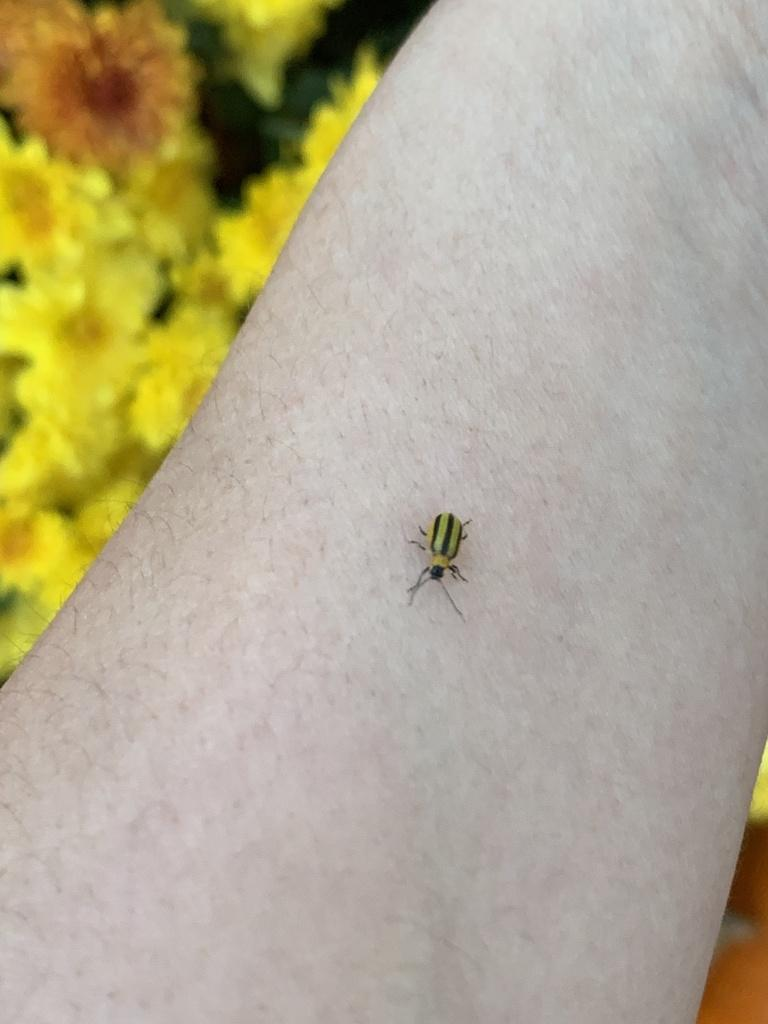potato_beetle: (391, 490, 493, 646)
